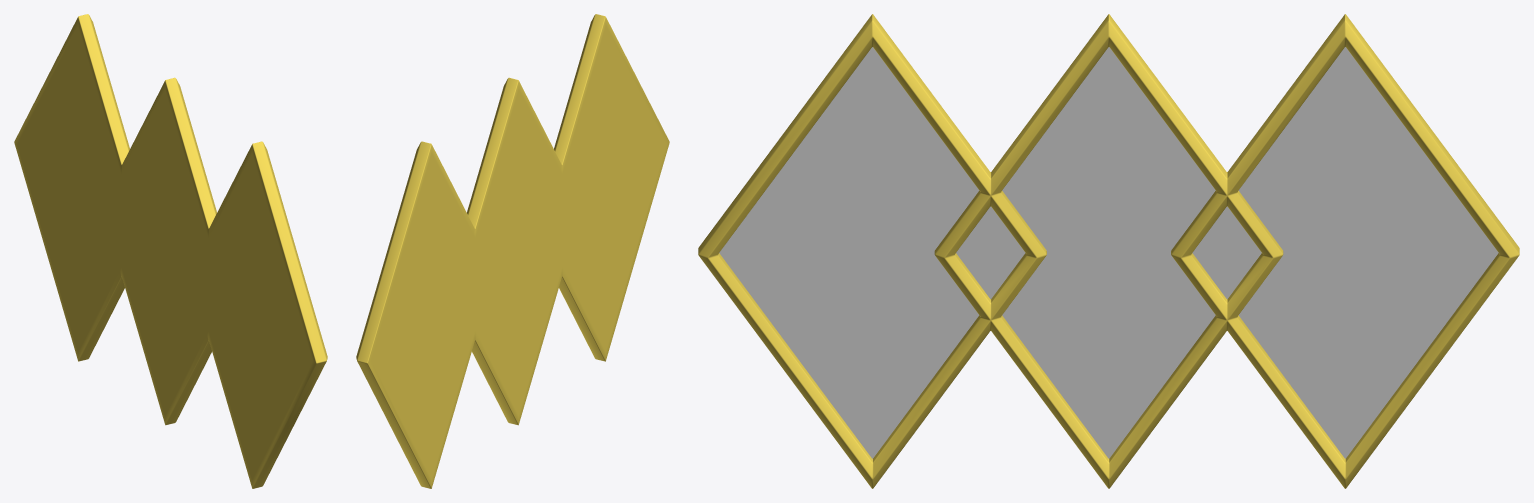
File: wall_mirror_diamond.glb
3 renders of one model, left to right at view 1: azimuth 30°, elevation 25°; view 2: azimuth 150°, elevation 25°; view 3: azimuth 270°, elevation 25°, orthographic. The views are drawn at different scales.
Visible parts, largest first — view 1: Object_3; view 2: Object_3; view 3: Object_2, Object_3.
Part boxes in pixels (bbox=[...]): Object_3: bbox=[14, 14, 327, 488]; Object_3: bbox=[356, 14, 669, 488]; Object_2: bbox=[719, 47, 1498, 458]; Object_3: bbox=[698, 14, 1519, 488].
Size of the model in its own units: 0.0411 by 0.9051 by 1.44.
